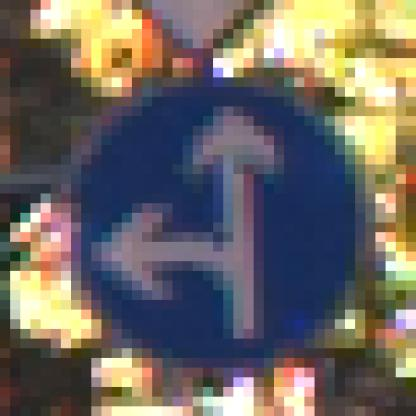Straight or Left: (52, 59, 356, 369)
